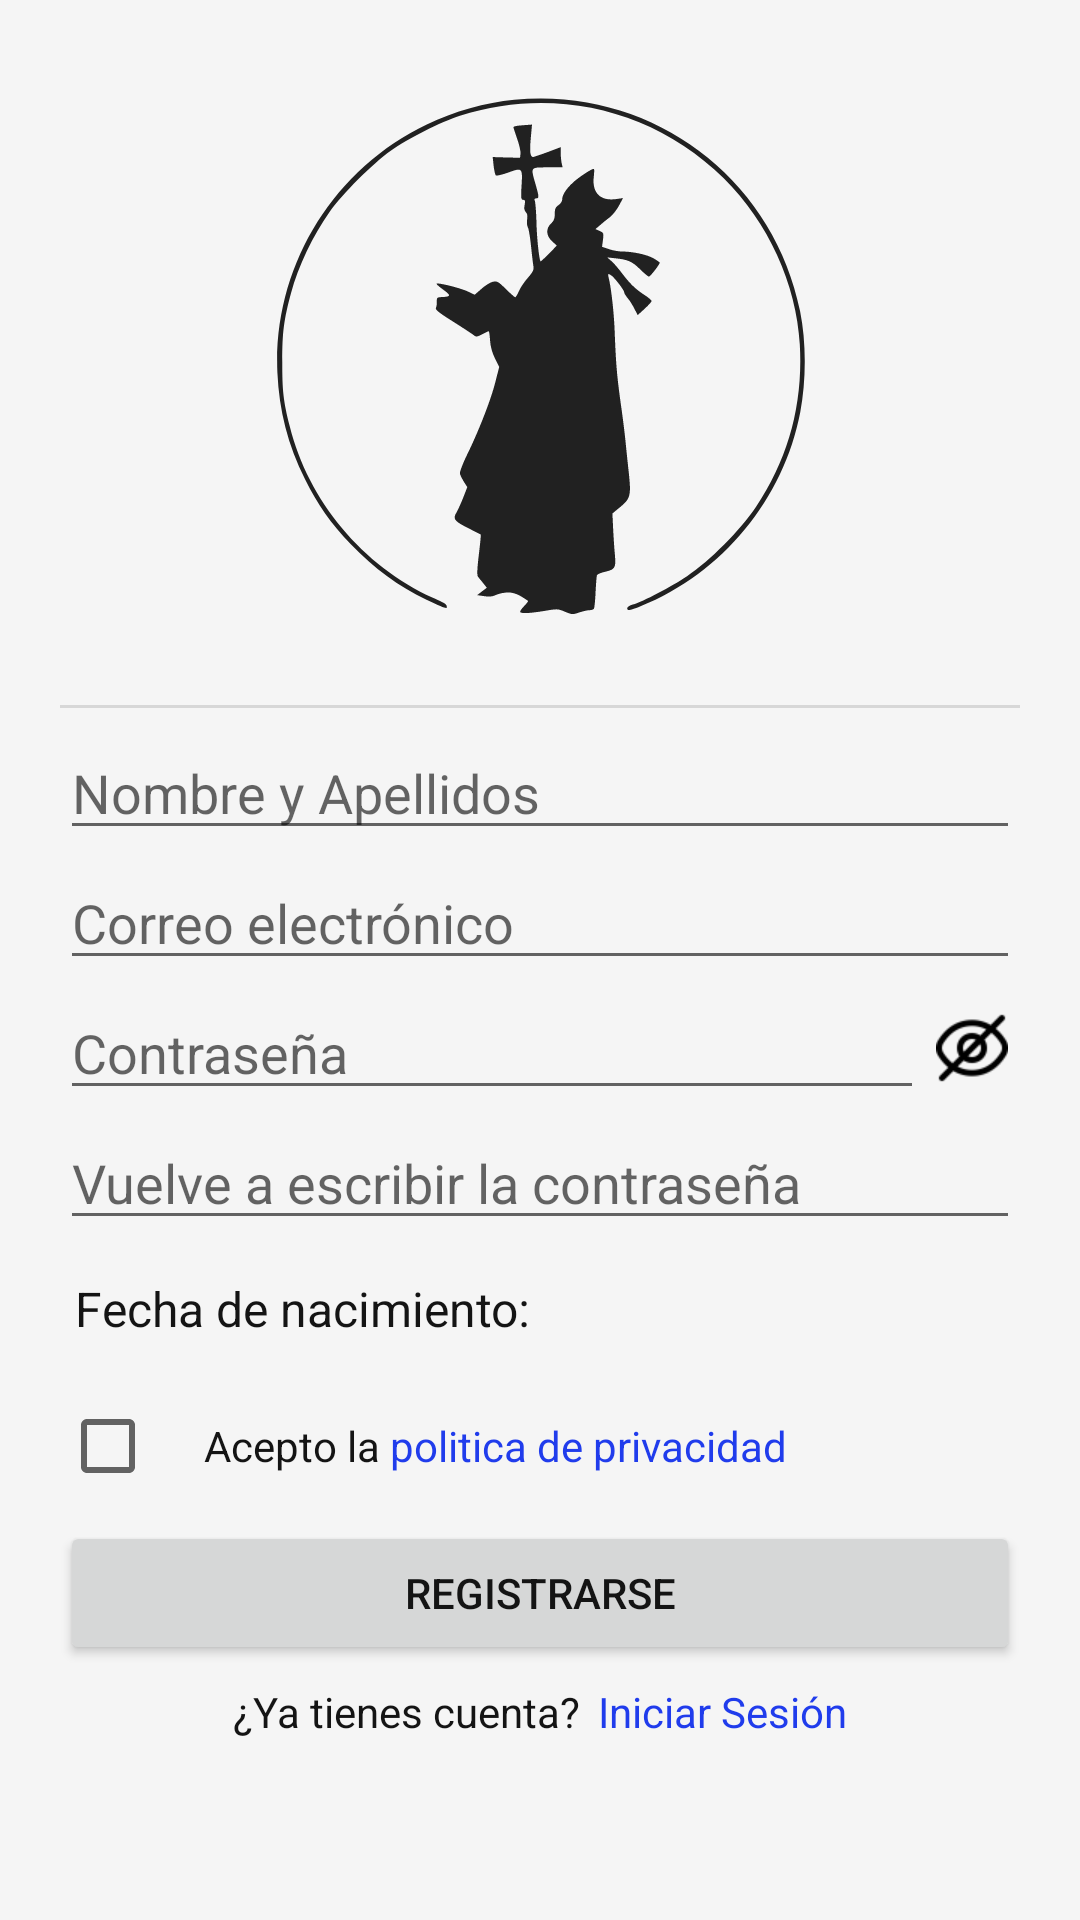

Named icons in this screenshot (1080 x 1920) and their bounding boxes, (x1, y1, x2, y2):
eye crossed: (936, 1014, 1008, 1082)
